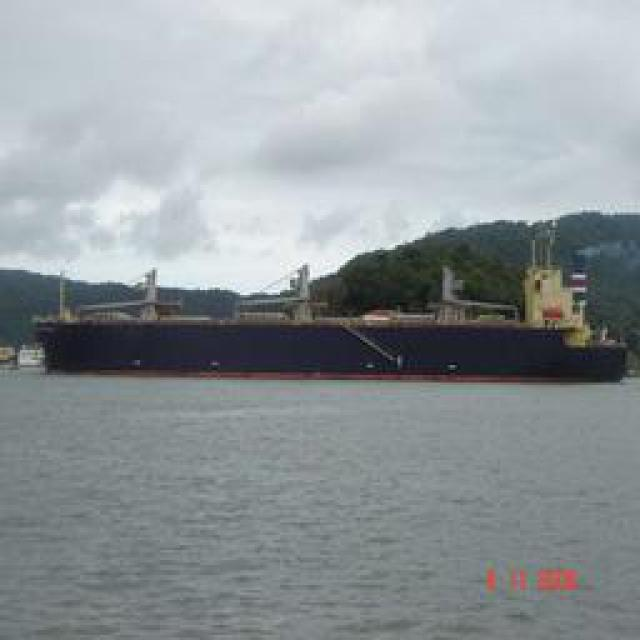Ship: (28, 312, 623, 380)
